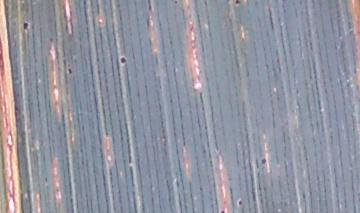tarspot: (20, 18, 31, 33), (117, 53, 128, 65), (64, 63, 74, 76), (259, 155, 268, 166), (236, 198, 245, 208), (217, 207, 229, 213), (231, 1, 242, 6)
